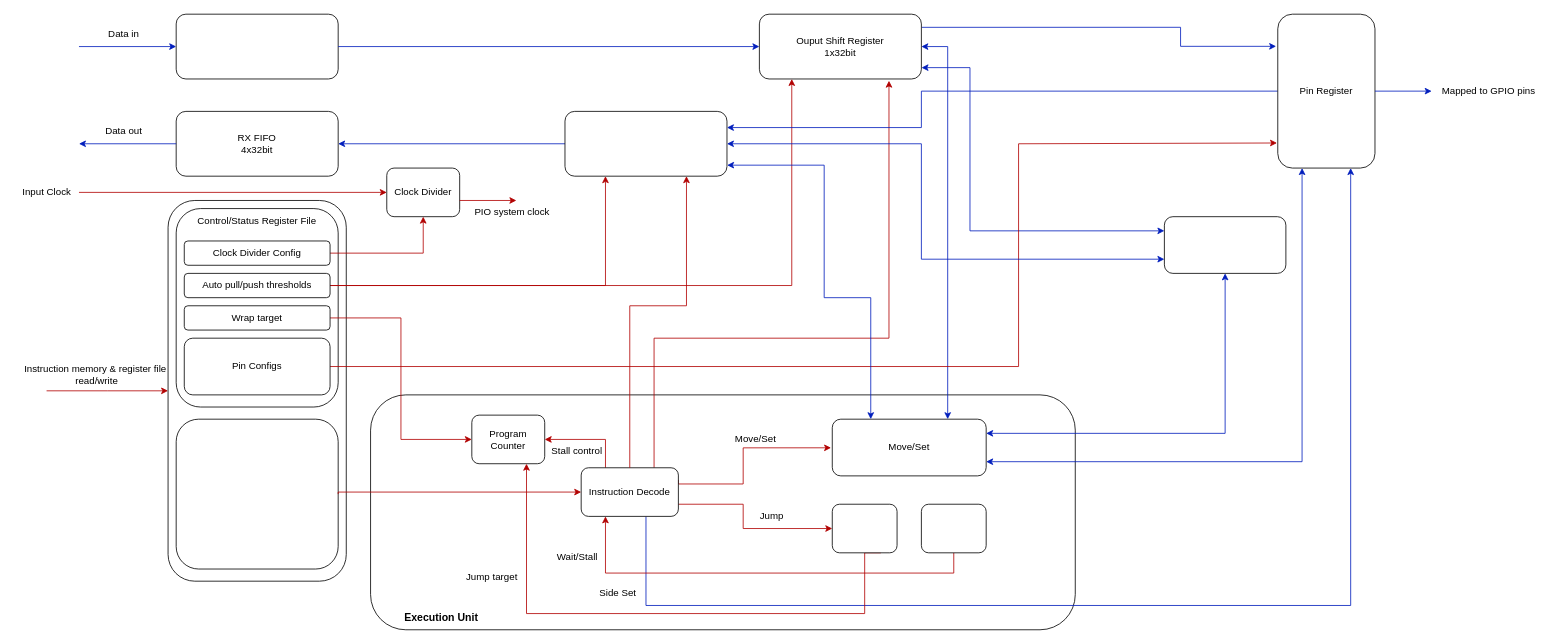
The diagram is 1558 pixels wide and 644 high, and some of its shapes have lost their labels. The shapes that lost their labels are listed below. From the top down, each one's centre as x and y in pixels, then its label:
At (x=256, y=46): "TX FIFO 4x32bit".
At (x=645, y=143): "Input Shift Register 1x32bit".
At (x=1225, y=244): "Scratch Registers 2x32 bit".
At (x=256, y=493): "Instruction Memory 32x16bit".
At (x=864, y=528): "Branch".
At (x=953, y=528): "Wait".
